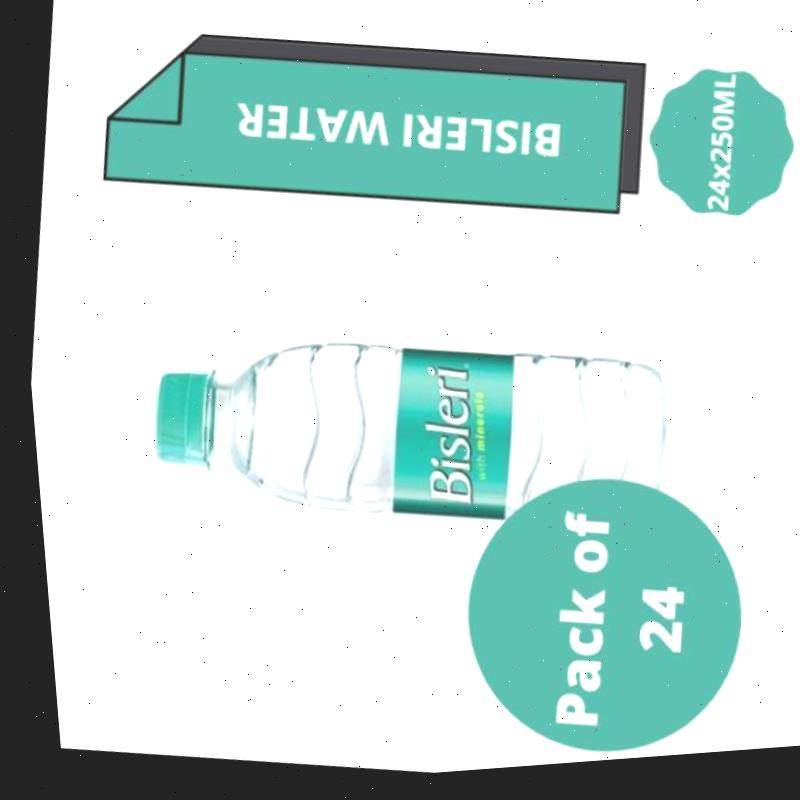botella: (131, 300, 673, 574)
